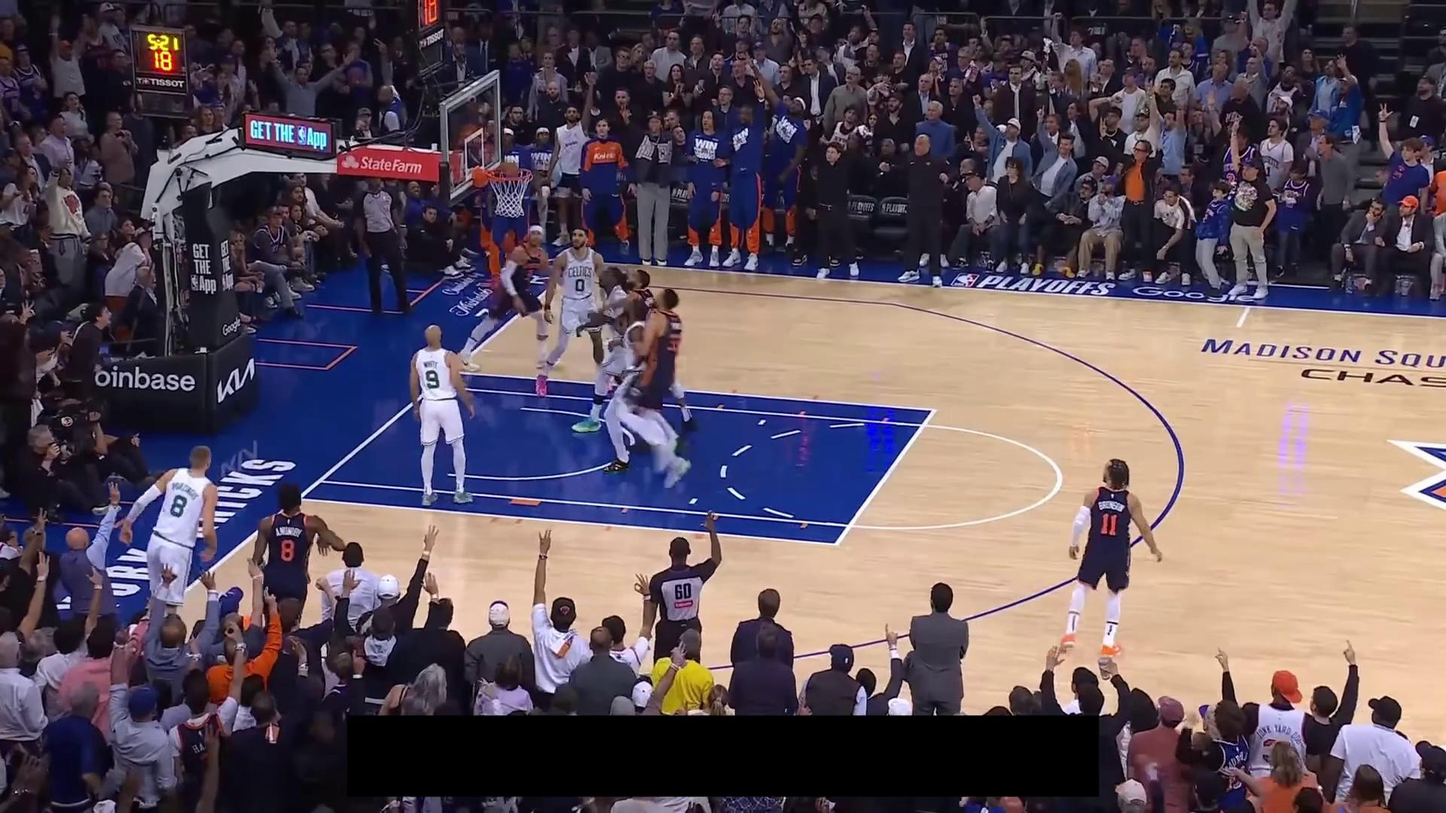ball: (498, 159, 520, 183)
number: (1097, 514, 1120, 540), (169, 494, 188, 519), (279, 539, 298, 563), (424, 369, 441, 388), (575, 278, 585, 293)
player: (1058, 451, 1163, 655), (118, 441, 223, 622), (599, 268, 700, 434), (454, 222, 561, 372), (614, 285, 692, 489), (245, 481, 352, 621), (535, 223, 616, 397), (601, 312, 685, 475), (406, 324, 481, 506), (572, 267, 629, 433)
referee: (646, 509, 724, 672), (351, 173, 421, 313)
rim: (483, 166, 534, 184)
